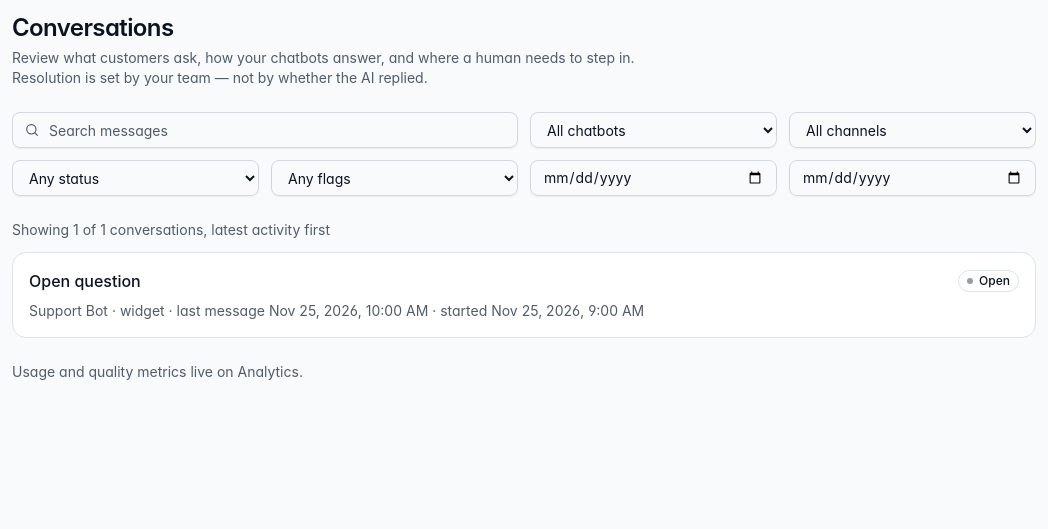
Test case: inbox states › says that nothing matches, not that nothing exists, when filters are set
Expected: the text "Open question" is shown, [29,269,141,293]
Step 1. Select "Resolved" in the dropdown named "Status" → (136, 178), box [12,160,259,196]
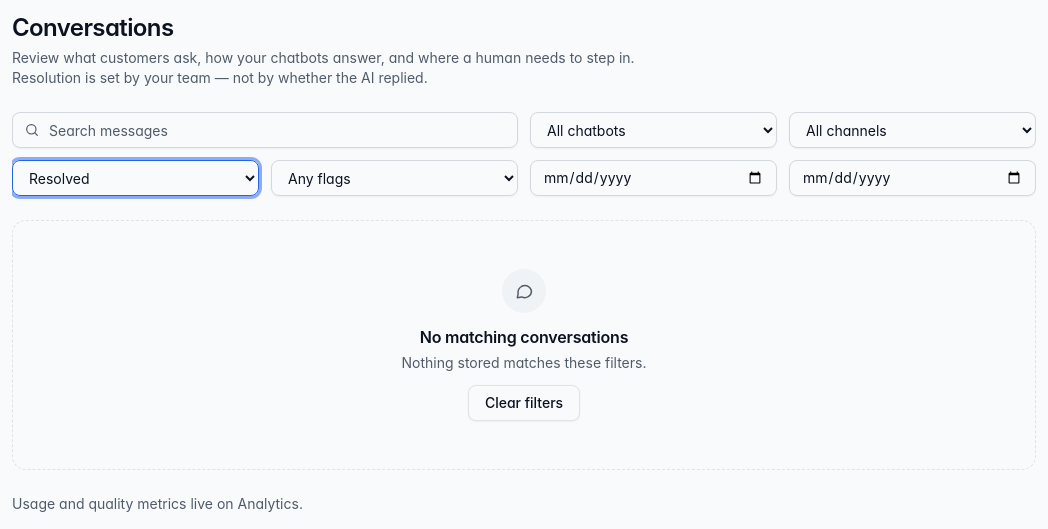
Expected: the heading "No matching conversations" is shown, [402,325,646,349]
Step 2. Click the button "Clear filters" → click(524, 403), box [468,385,580,421]
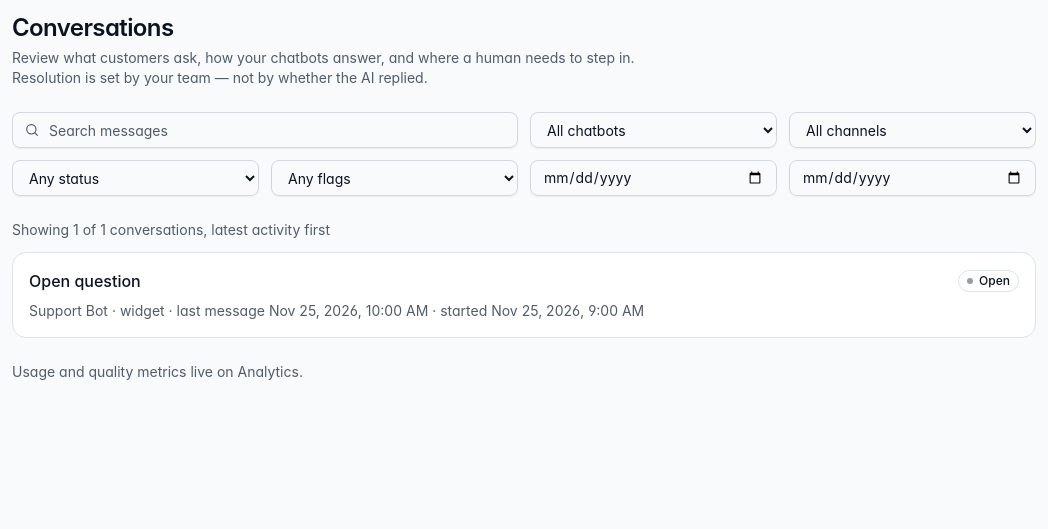
Expected: the text "Open question" is shown, [29,269,141,293]
